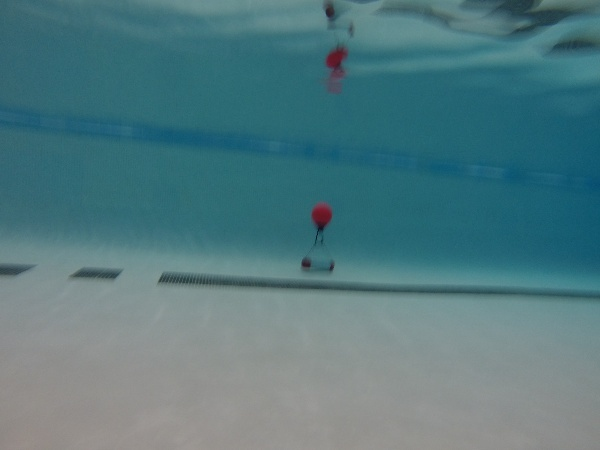buoy_red: (308, 201, 333, 233)
